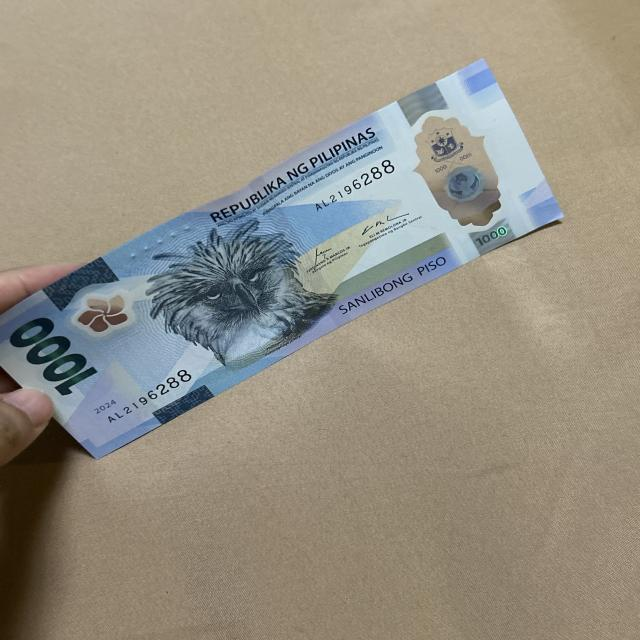clear_window: (407, 108, 507, 230)
eagle: (140, 233, 324, 364)
sampaguita: (77, 290, 128, 336)
serial_number: (95, 370, 207, 430), (303, 160, 415, 210)
